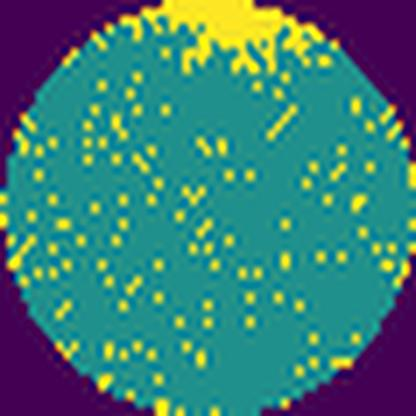Edge-Loc: (122, 0, 320, 71)
